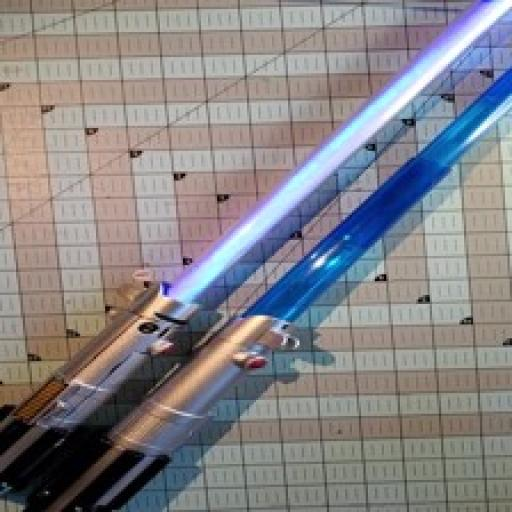lightsaber: (0, 0, 510, 497), (30, 71, 510, 512)
